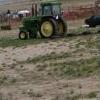Tractor: (8, 9, 80, 47)
